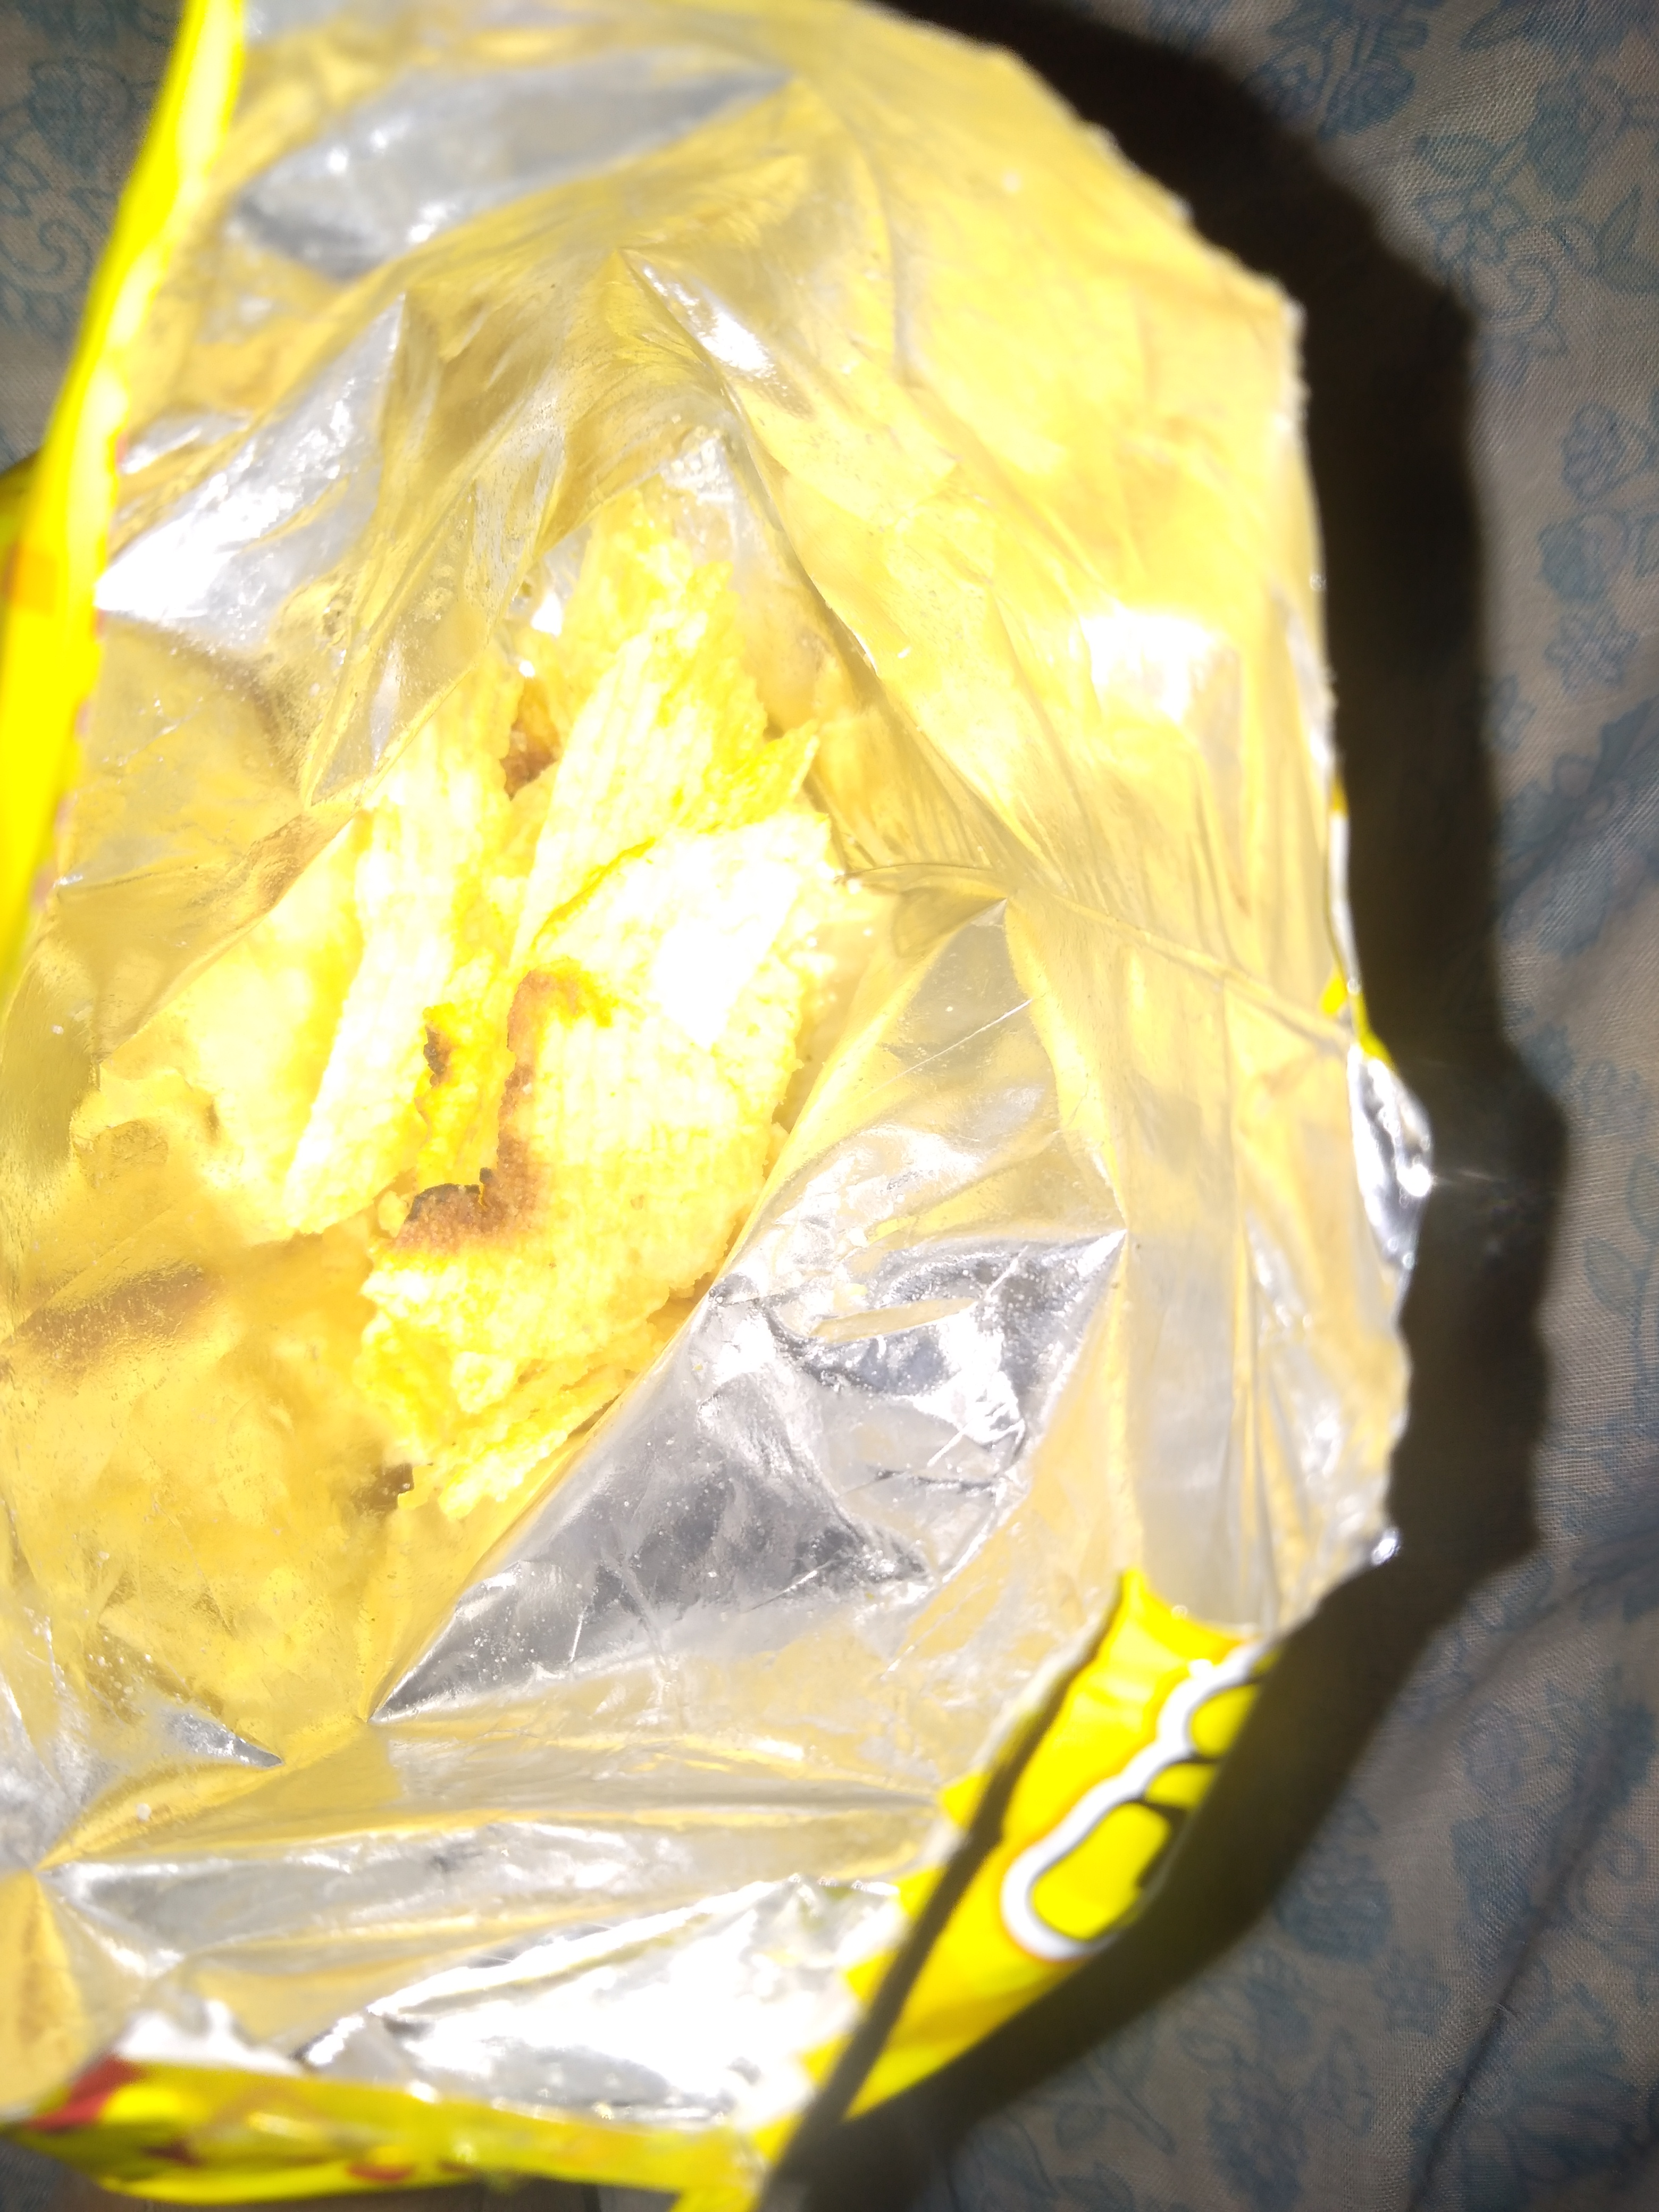food: (5, 0, 1478, 2212)
